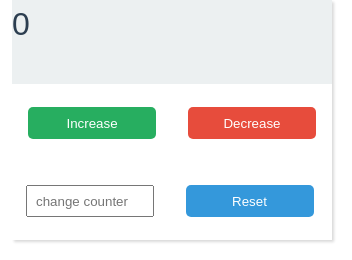
Test: Counter component check › Should decrease state -1 after click button "Decrease"
Click the button with class "decreaseBtn" at coordinates (252, 123), box [188,107,316,139]
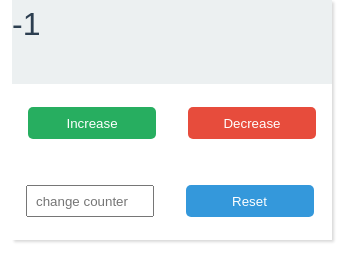
Expected: the text "-1" is shown, [12,0,332,84]
